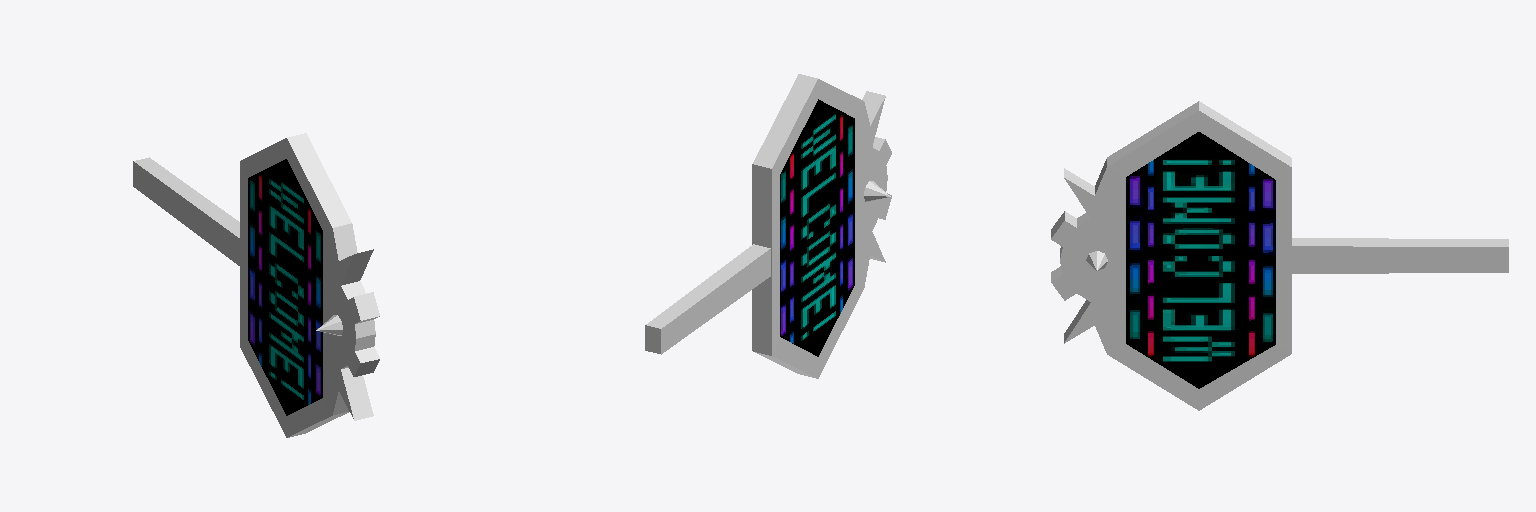
3 views of the same model, side by side, from view 1: azimuth 30°, elevation 25°; view 2: azimuth 150°, elevation 25°; view 3: azimuth 270°, elevation 25° (orthographic).
Visible parts, largest first — view 1: polygon0, polygon1; view 2: polygon0, polygon1; view 3: polygon1, polygon0.
Part boxes in pixels (x1,y1,x2,y2): polygon0: (133,133,379,437); polygon1: (248,159,322,415); polygon0: (645,74,891,378); polygon1: (780,99,854,356); polygon1: (1126,132,1275,388); polygon0: (1051,101,1508,410).
Size of the model in its own units: 3.72 by 16.93 by 23.42.
2 materials, 1 textured.